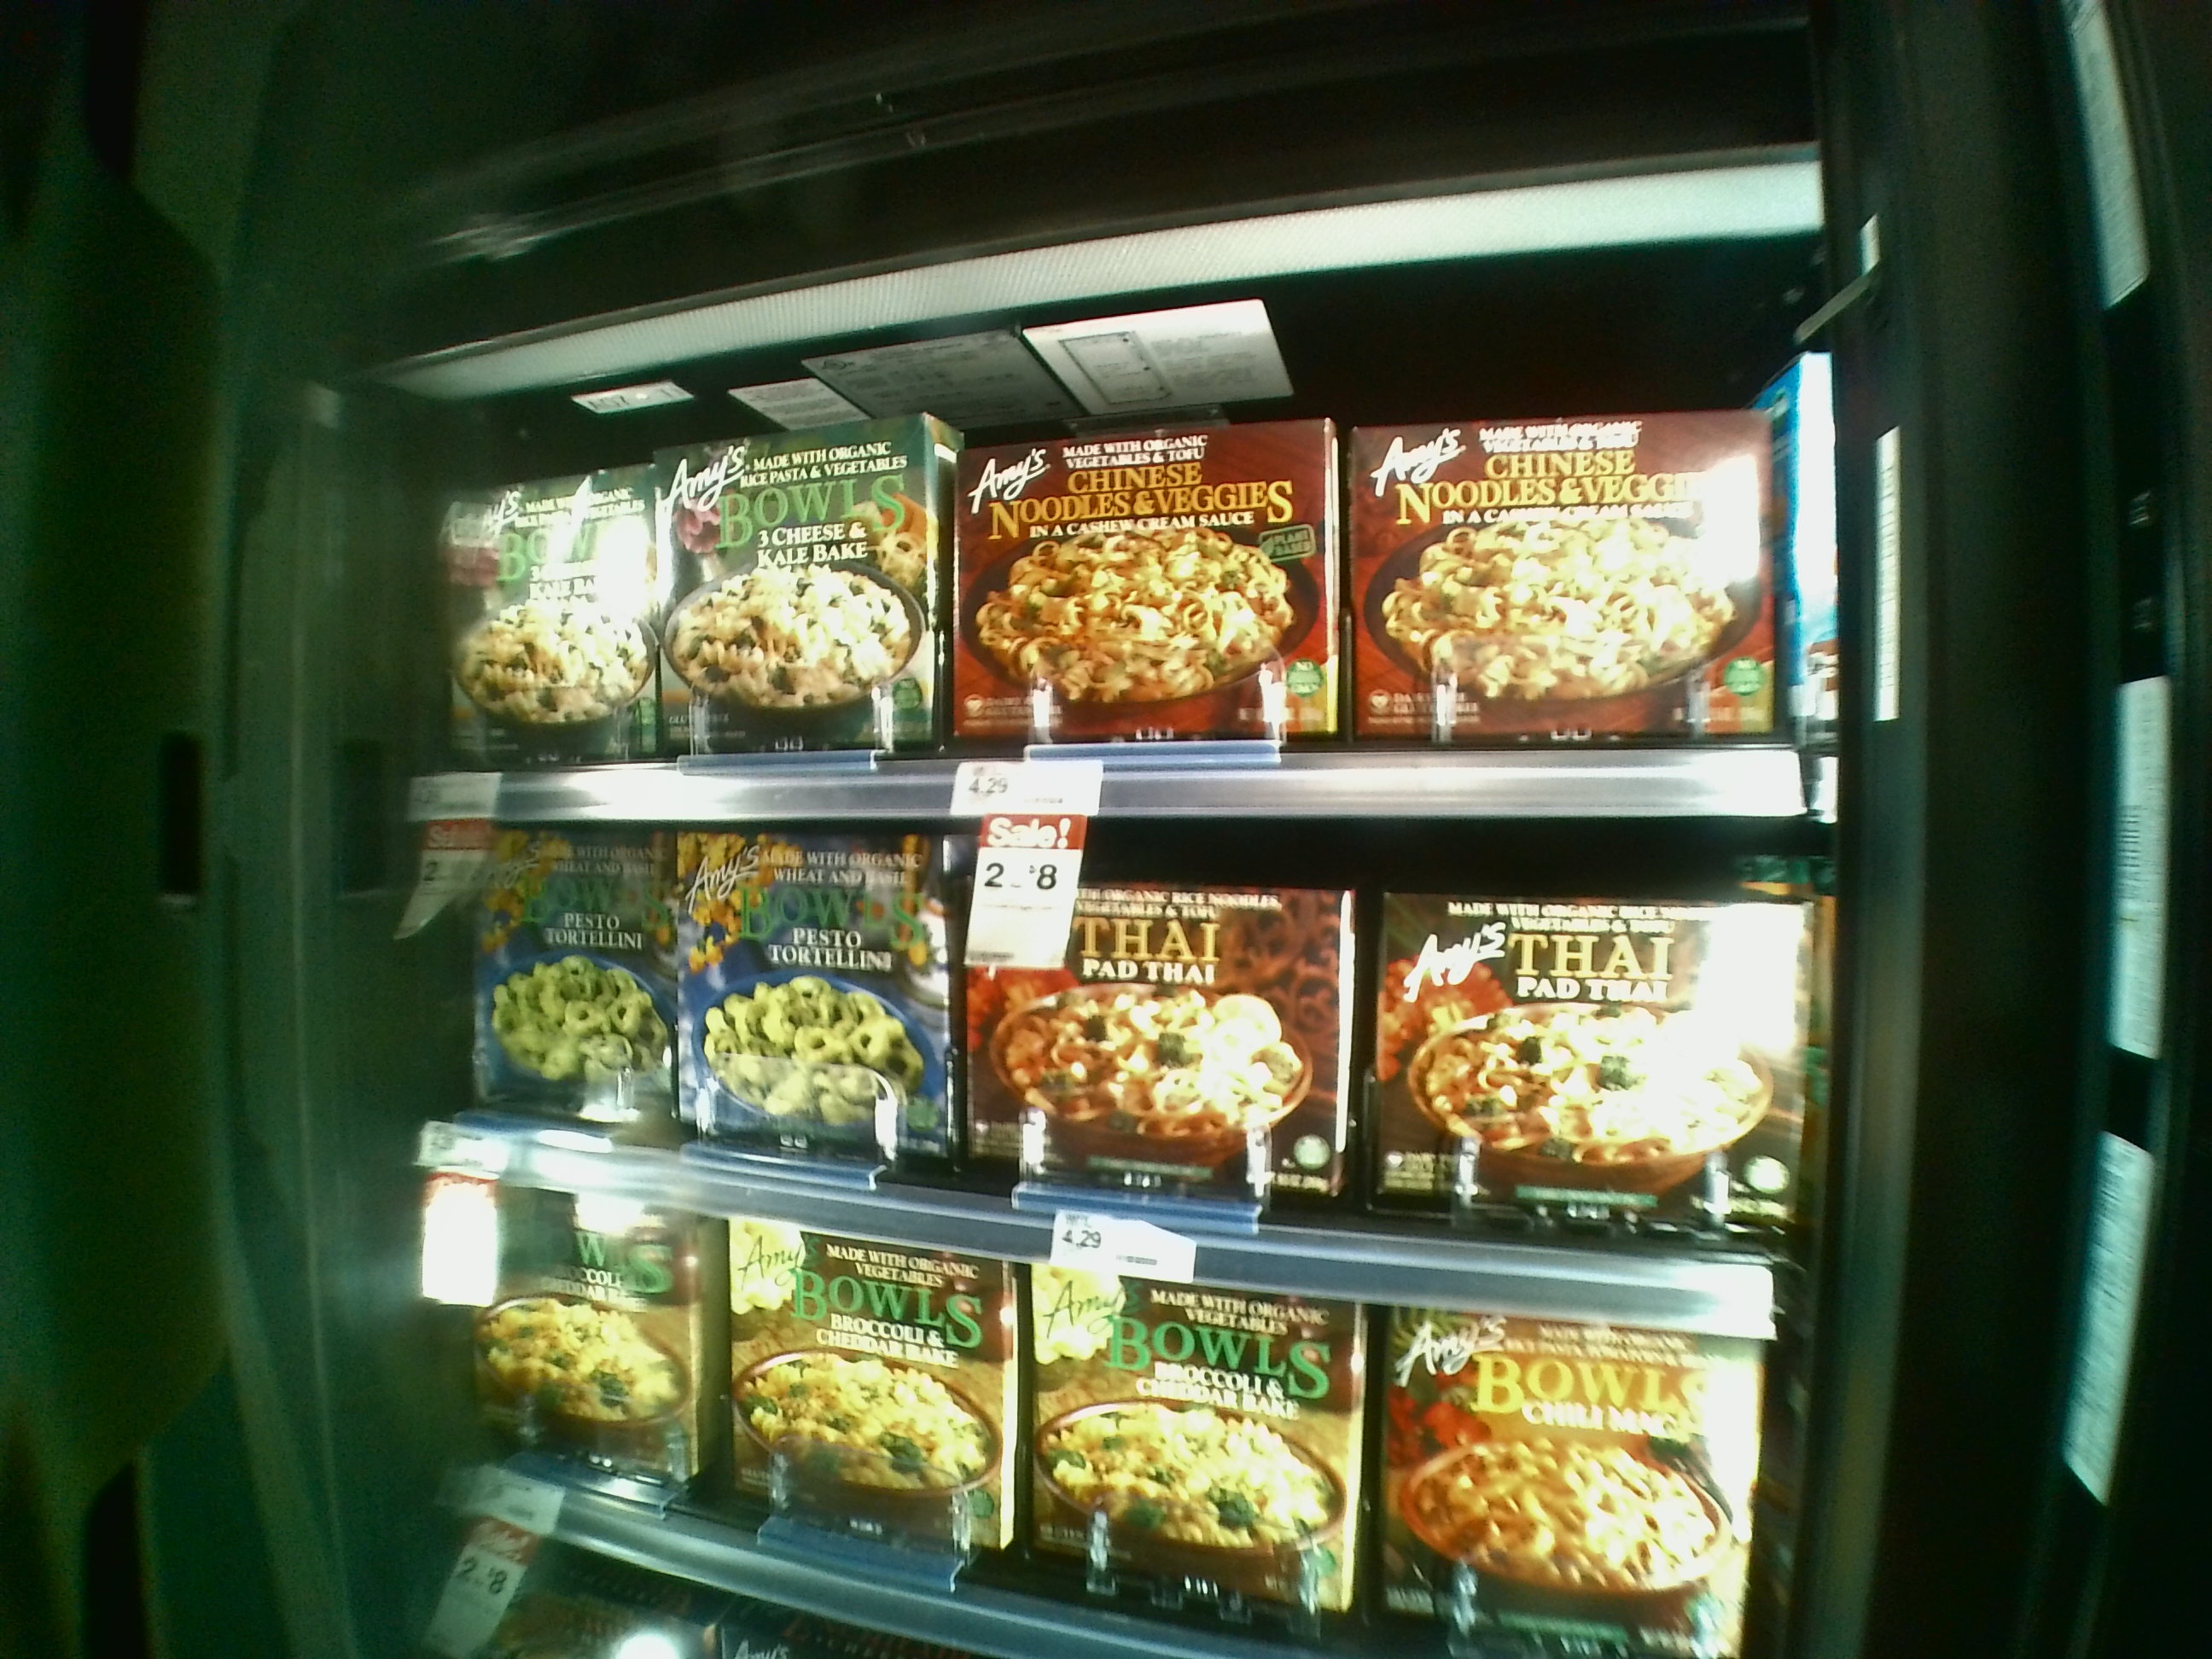shelf: (402, 310, 1839, 819), (418, 824, 1825, 1229), (430, 1244, 1794, 1654)
